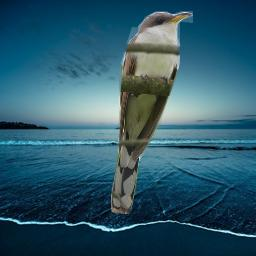Cuckoo: (111, 11, 193, 214)
